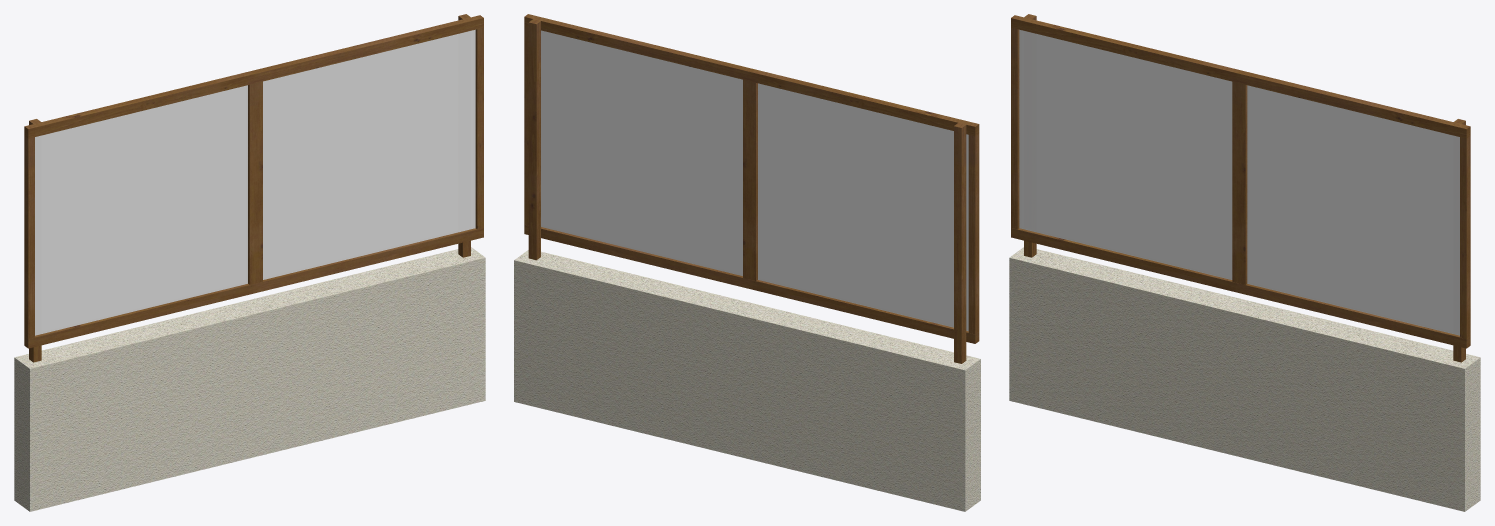
File: EAFpolycadesign_w1998-h920_block_naturalpine.fbx
The picture shows the model from 3 angles, left to right: view 1: azimuth 30°, elevation 25°; view 2: azimuth 150°, elevation 25°; view 3: azimuth 330°, elevation 25°; orthographic projection.
Visible parts, largest first — view 1: EAFpolycadesign_w1998-h920_block_naturalpine; view 2: EAFpolycadesign_w1998-h920_block_naturalpine; view 3: EAFpolycadesign_w1998-h920_block_naturalpine.
Boxes of the visible parts, x1,y1,x2,y2 form: EAFpolycadesign_w1998-h920_block_naturalpine: (14, 14, 485, 511); EAFpolycadesign_w1998-h920_block_naturalpine: (514, 14, 980, 511); EAFpolycadesign_w1998-h920_block_naturalpine: (1009, 14, 1480, 511).
Bounding box in the file's own units: 200 × 160 × 12.
4 materials, 3 textured.
